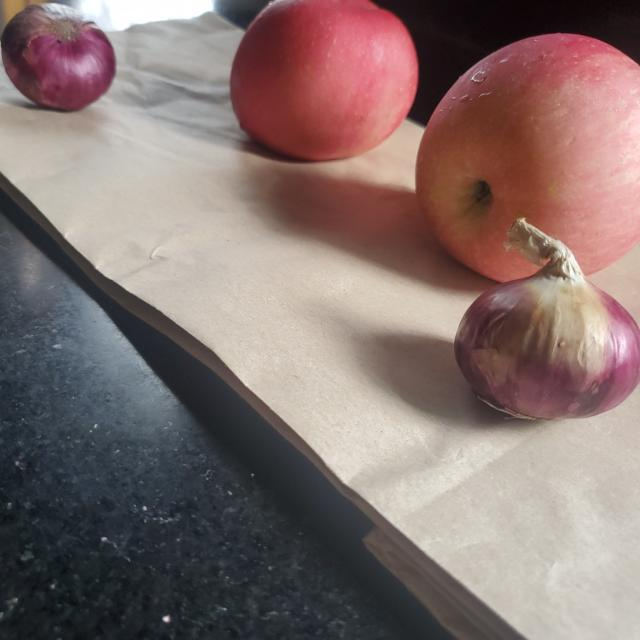apple: (418, 32, 640, 278), (225, 1, 417, 160)
onion: (456, 218, 640, 420), (4, 6, 120, 112)
